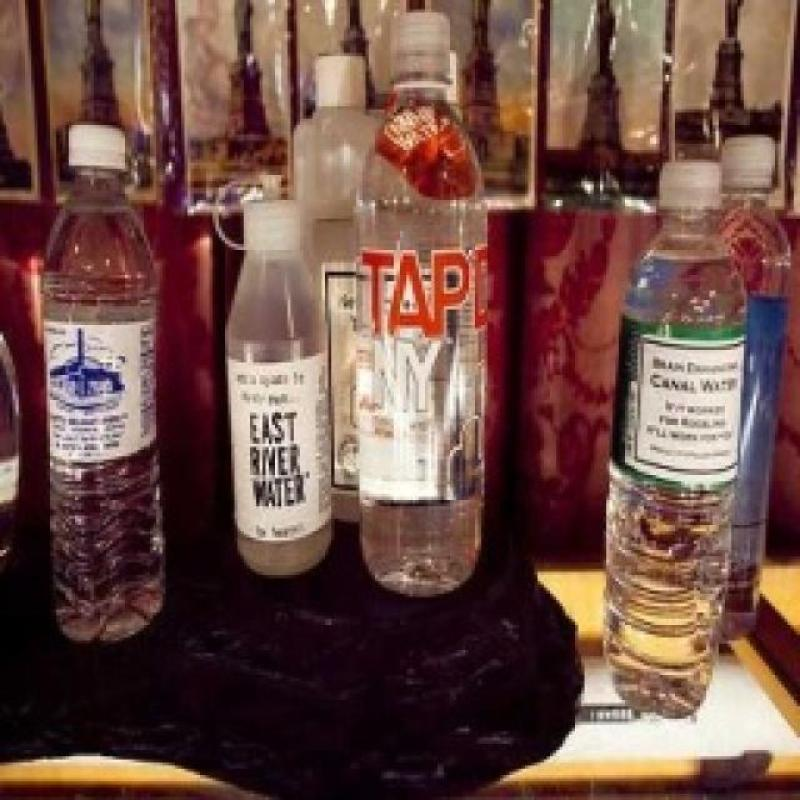botella: (604, 158, 748, 724), (351, 12, 489, 598), (36, 120, 166, 642), (722, 136, 790, 646)
